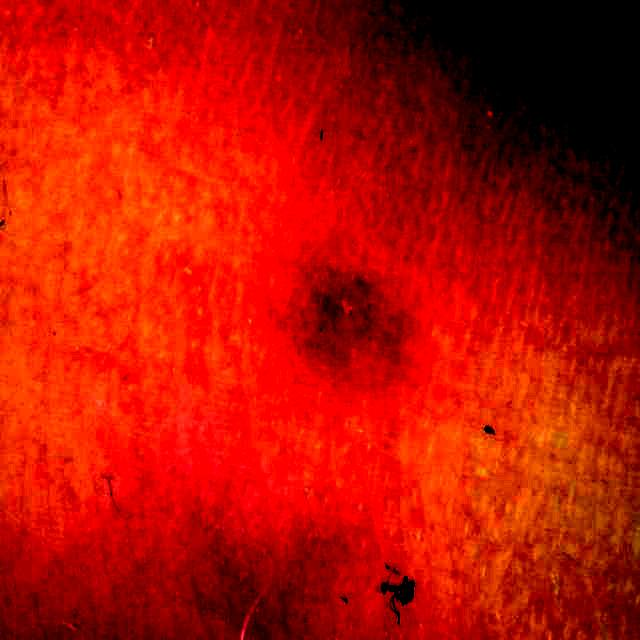NV: (271, 255, 429, 402)
